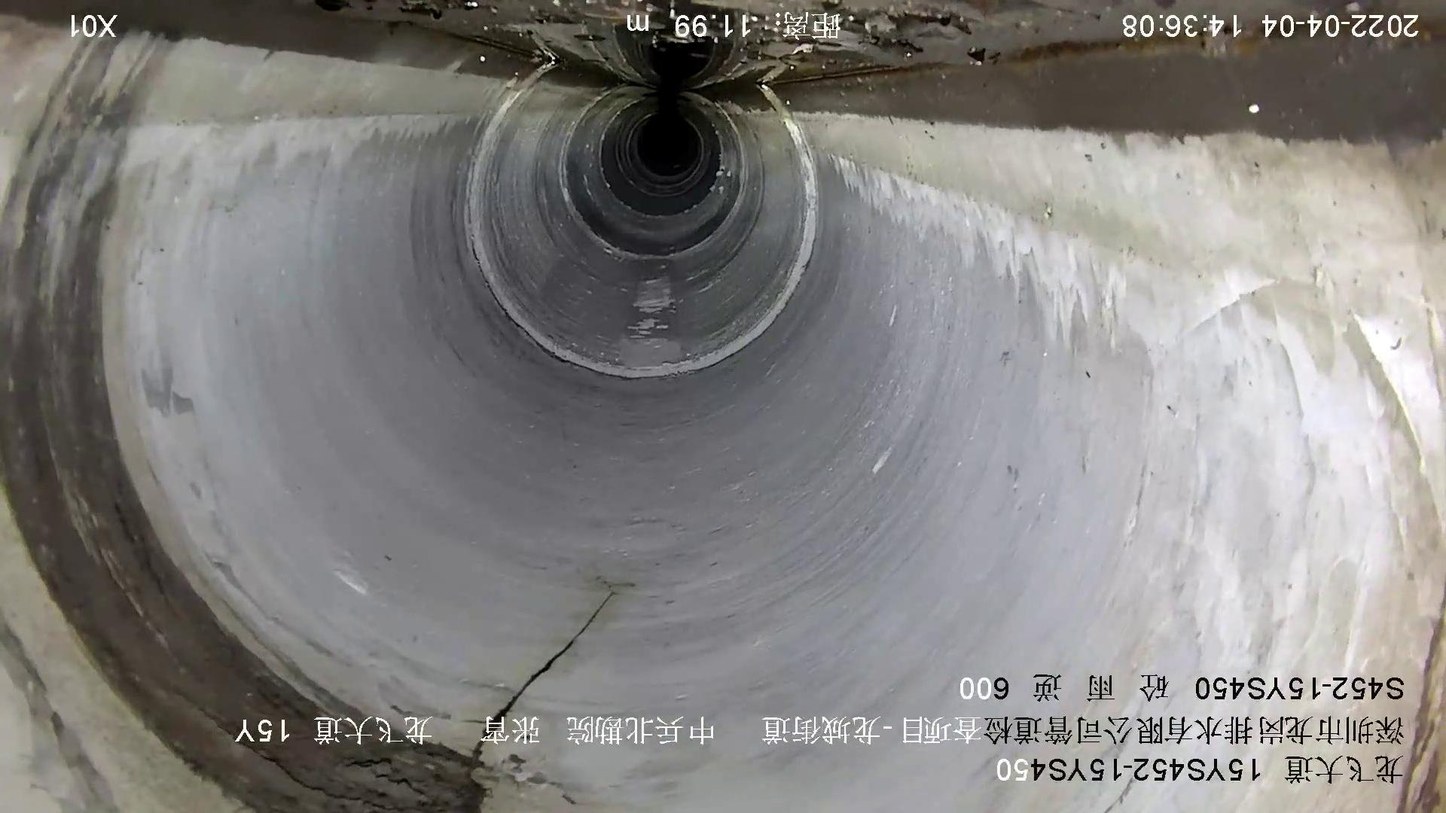CKTJ: (465, 64, 819, 378)
PL: (461, 580, 629, 773)
